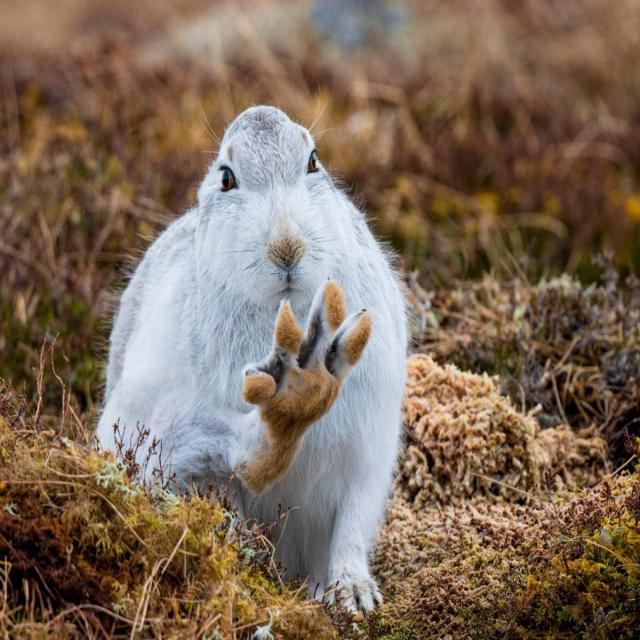Hare: (100, 97, 414, 624)
